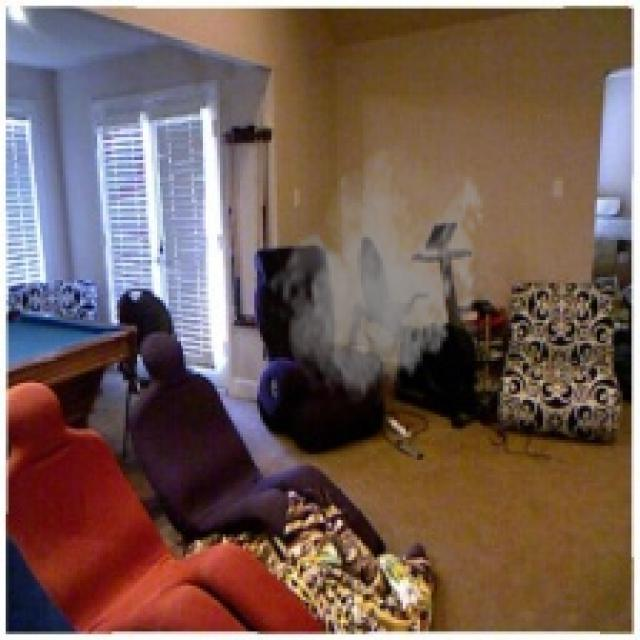Smoke: (266, 140, 488, 406)
